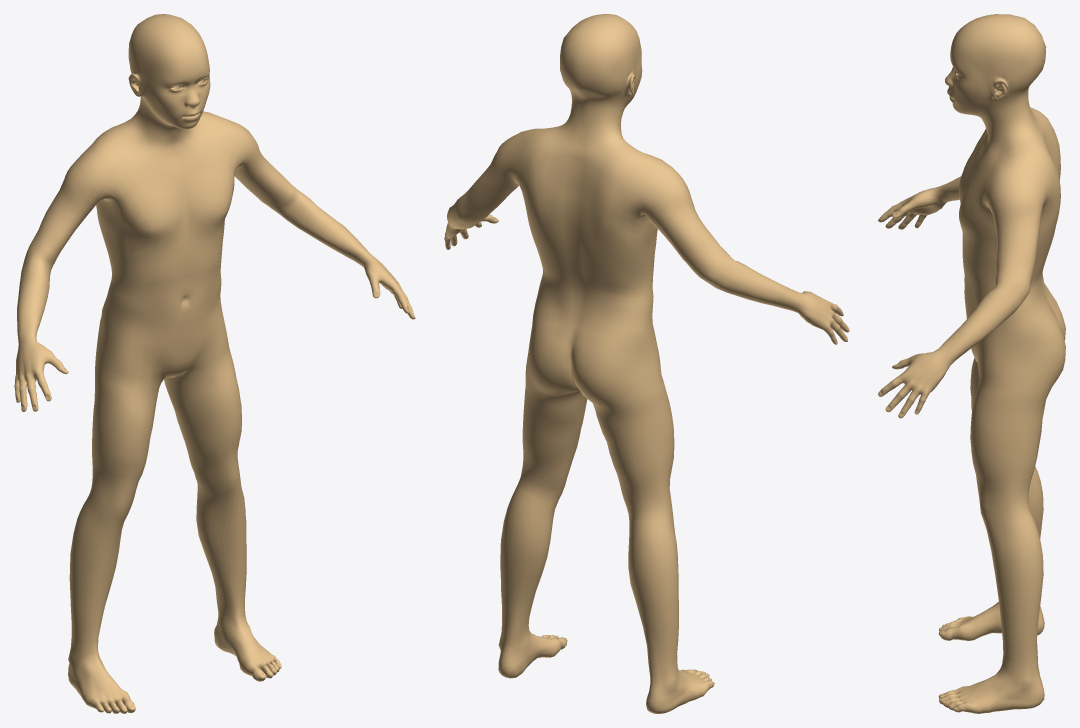
3 renders of one model, left to right at view 1: azimuth 30°, elevation 25°; view 2: azimuth 150°, elevation 25°; view 3: azimuth 270°, elevation 25°, orthographic.
Visible parts, largest first — view 1: Human; view 2: Human; view 3: Human.
Part boxes in pixels (<box>): Human: <box>14,14,415,713</box>; Human: <box>444,14,849,713</box>; Human: <box>878,14,1065,713</box>.
Bounding box in the file's own units: 0.8946 × 1.44 × 0.3738.
